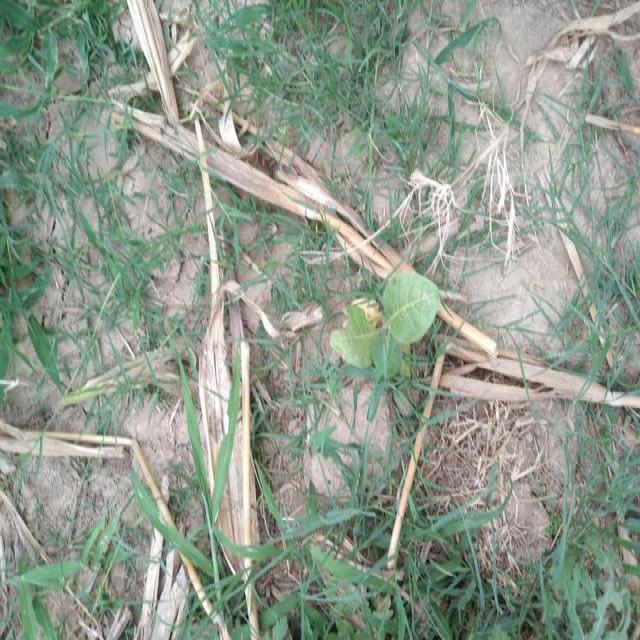crop: (321, 260, 452, 390)
